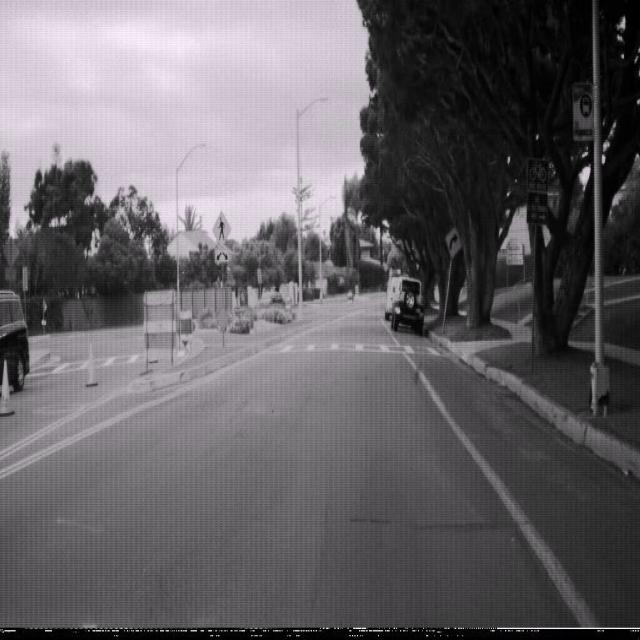pedestrianCrossing: (211, 208, 231, 249)
